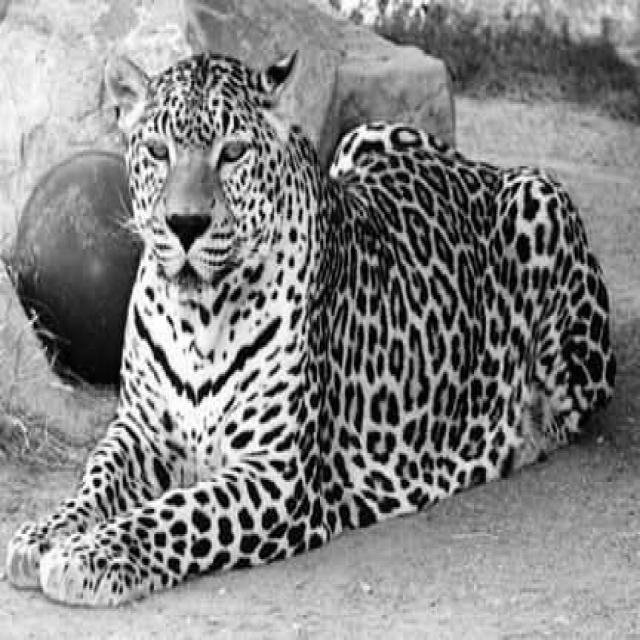Leopard: (4, 44, 616, 608)
